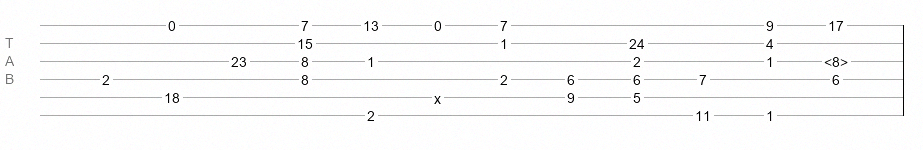0: (168, 18, 176, 28), (434, 18, 442, 28)
1: (367, 54, 375, 64), (500, 36, 508, 46), (766, 108, 774, 118), (766, 54, 774, 64)
11: (695, 108, 711, 118)
13: (363, 18, 379, 28)
15: (297, 36, 313, 46)
17: (828, 18, 844, 28)
18: (164, 90, 180, 100)
2: (102, 72, 110, 82), (367, 108, 375, 118), (500, 72, 508, 82), (633, 54, 641, 64)
23: (231, 54, 247, 64)
24: (629, 36, 645, 46)
4: (766, 36, 774, 46)
5: (633, 90, 641, 100)
6: (567, 72, 575, 82), (633, 72, 641, 82), (832, 72, 840, 82)
7: (301, 18, 309, 28), (500, 18, 508, 28), (699, 72, 707, 82)
8: (301, 72, 309, 82), (301, 54, 309, 64)
9: (567, 90, 575, 100), (766, 18, 774, 28)
harmonic: (824, 54, 848, 64)
x: (434, 91, 441, 99)
